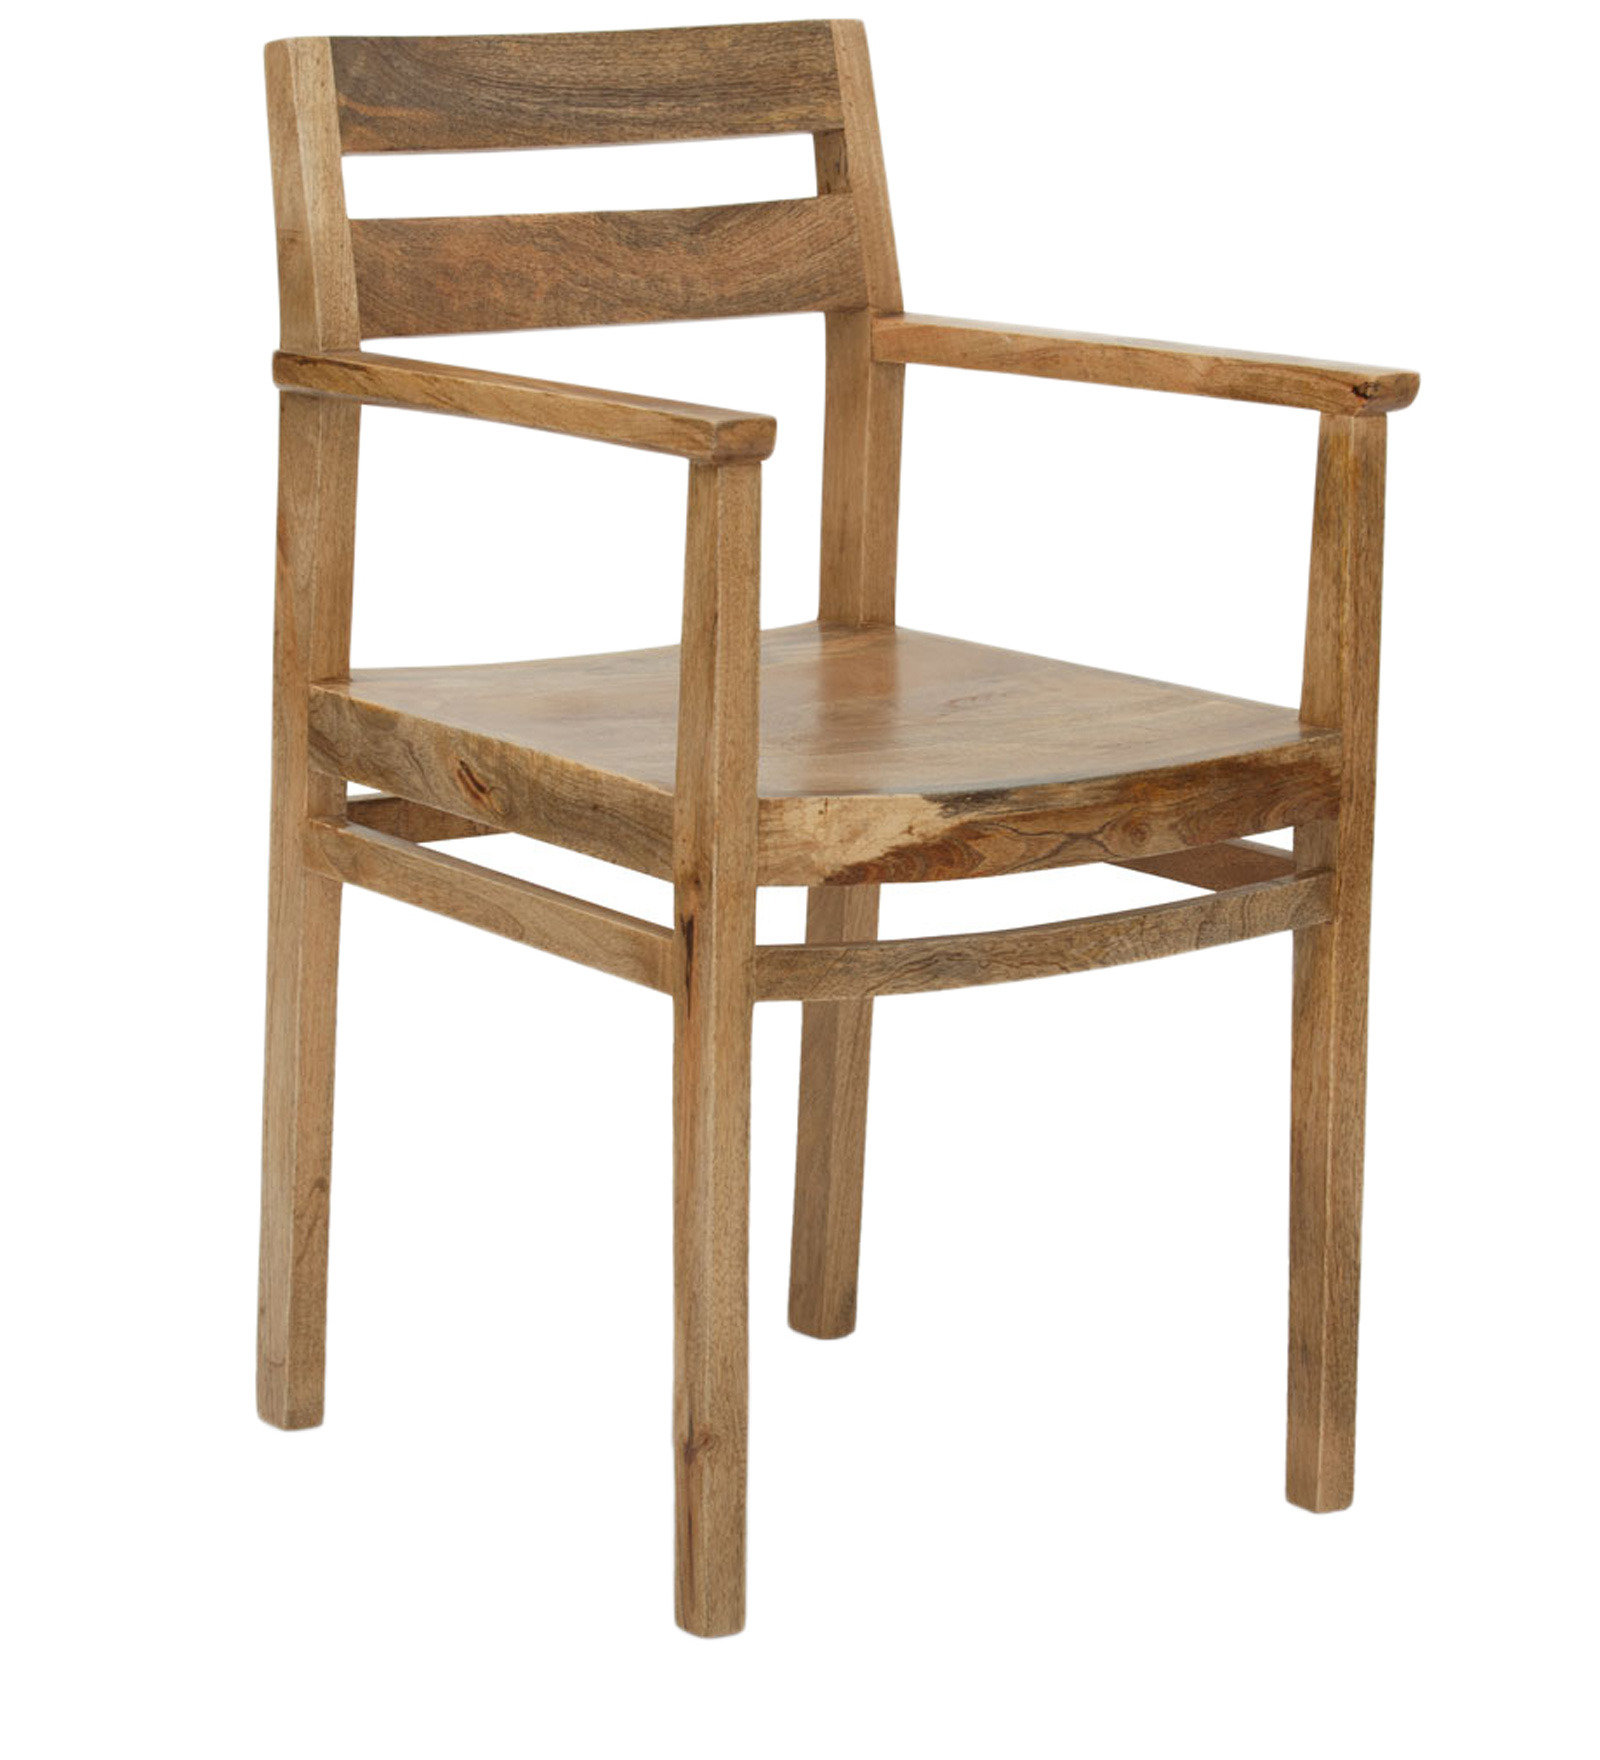Barcelona Solid Wood Arm Chair in Natural Finish by TheArmchair: (184, 8, 1418, 1653)
